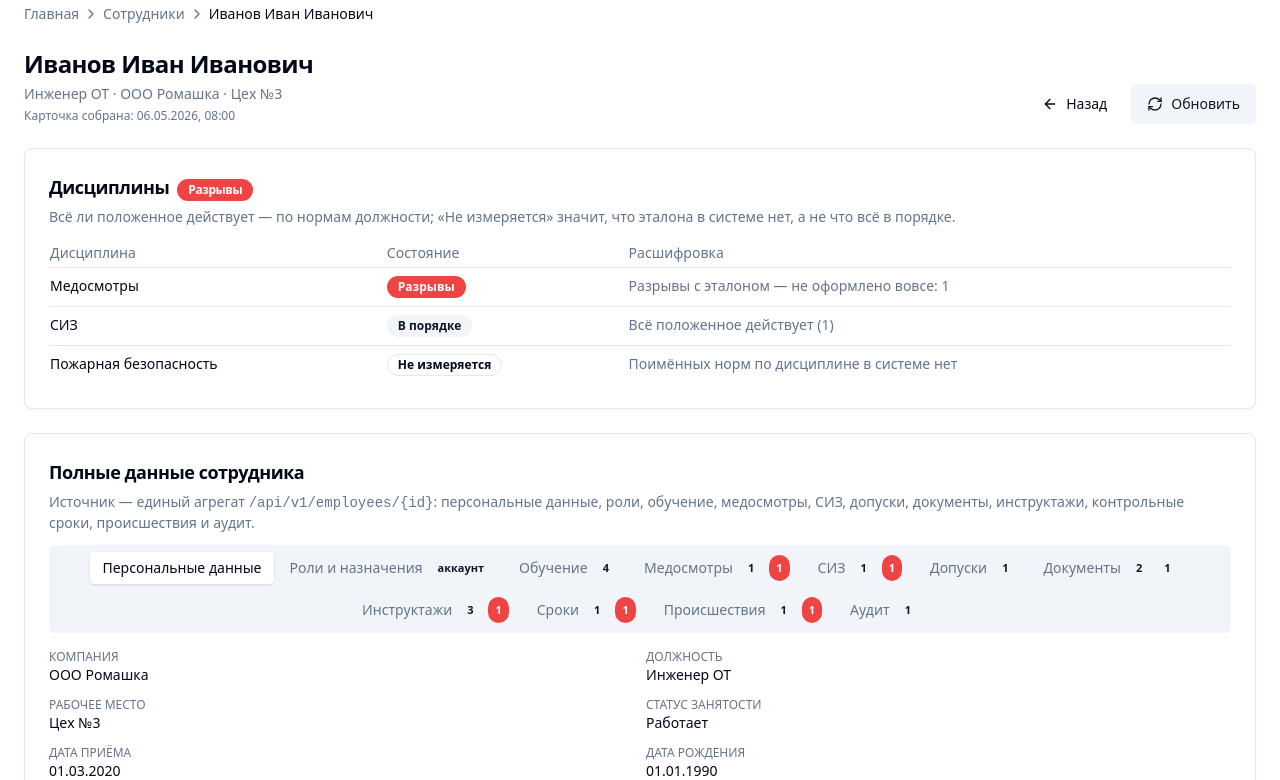
Test: EmployeeCardPage › shows linked user account on the Roles tab when present
Check: the heading "Иванов Иван Иванович" is shown, box [24,48,313,80]
Click the tab "Роли и назначения аккаунт" at (390, 568), box [278,549,503,587]
(page scrolled)
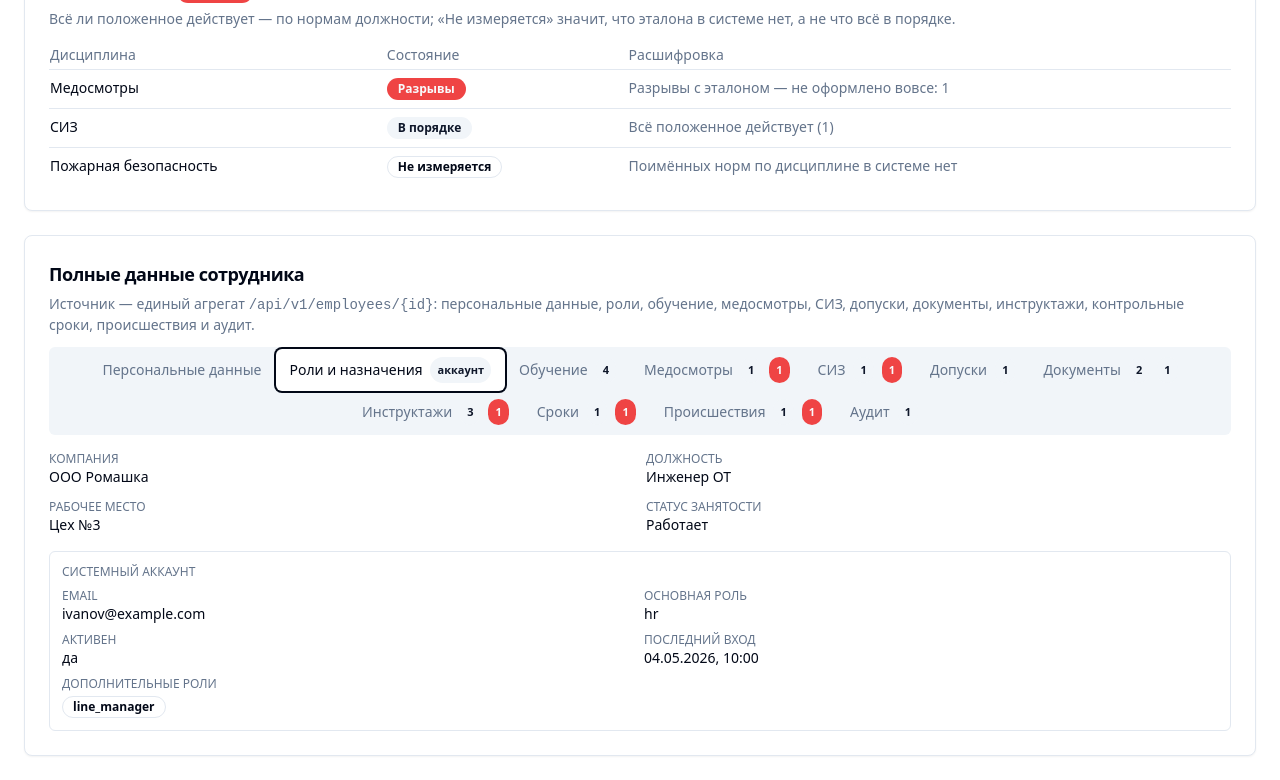
Check: the text "Системный аккаунт" is shown, box [62,563,195,580]
Check: the text "hr" is shown, box [644,604,658,623]
Check: the text "line_manager" is shown, box [62,696,166,718]
